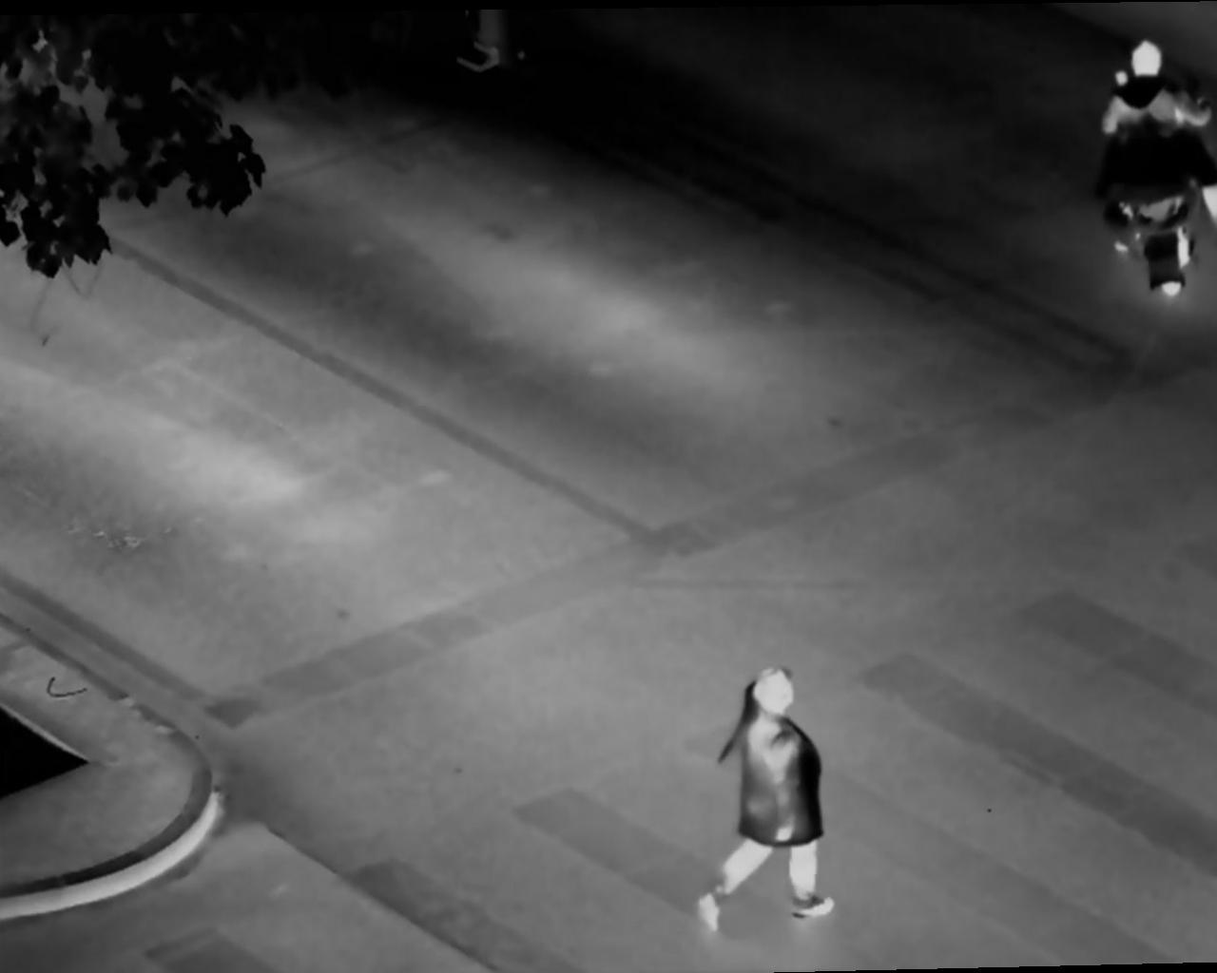person: (692, 659, 856, 926), (1097, 35, 1211, 293)
